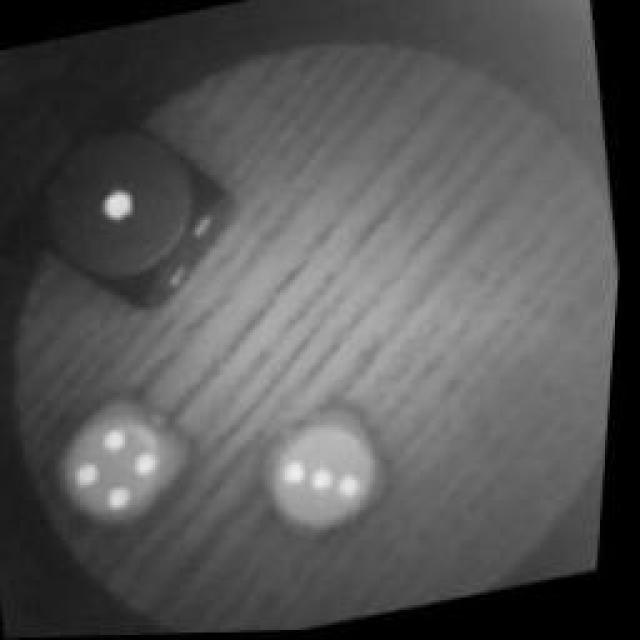dice_1: (22, 106, 238, 316)
dice_3: (254, 392, 414, 546)
dice_4: (52, 384, 226, 554)
